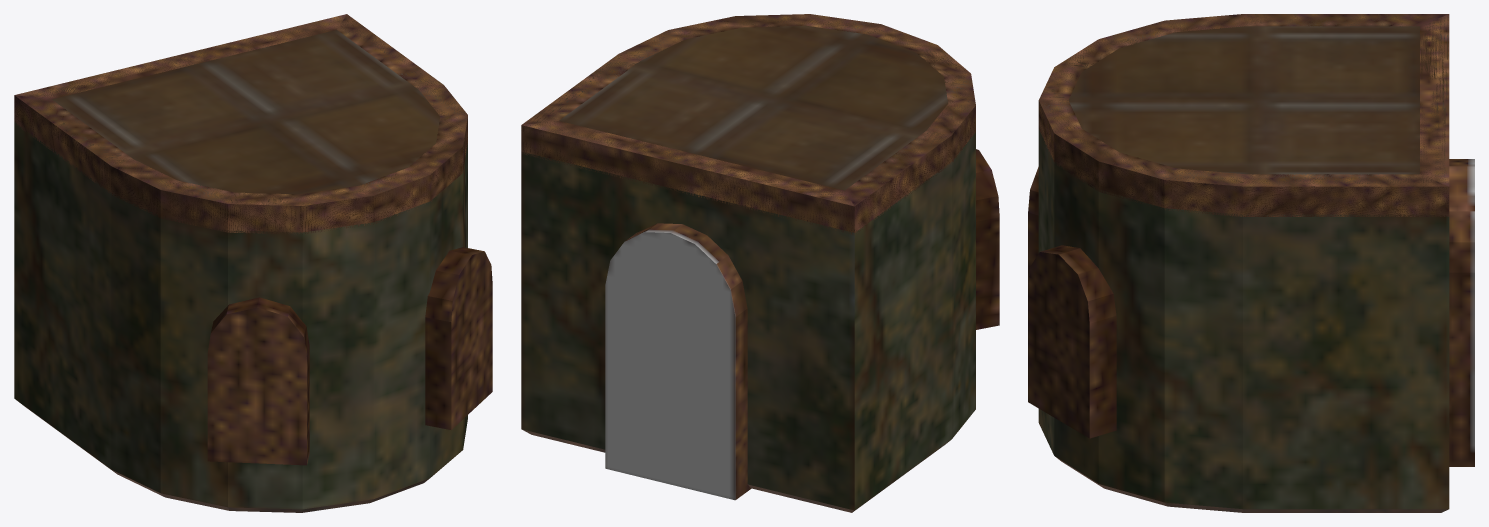
The model's file is Pokoj_4.fbx.
3 renders of one model, left to right at view 1: azimuth 30°, elevation 25°; view 2: azimuth 150°, elevation 25°; view 3: azimuth 270°, elevation 25°, orthographic. The views are drawn at different scales.
Parts seen in each view (by area): view 1: Pokoj_4; view 2: Pokoj_4; view 3: Pokoj_4.
Boxes of the visible parts, bbox=[...] form: Pokoj_4: bbox=[14, 14, 492, 512]; Pokoj_4: bbox=[521, 14, 999, 512]; Pokoj_4: bbox=[1028, 14, 1474, 512].
Bounding box in the file's own units: 873 × 779 × 955.
